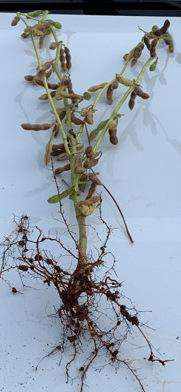soja: (85, 118, 112, 144), (44, 187, 75, 206), (19, 121, 54, 137), (49, 111, 70, 137), (77, 203, 105, 222), (22, 70, 57, 85), (42, 137, 56, 169), (66, 48, 82, 71), (151, 22, 172, 39), (133, 84, 152, 102), (84, 183, 101, 202), (106, 87, 123, 106), (81, 193, 104, 207), (128, 93, 145, 111), (89, 80, 108, 96), (168, 31, 179, 56), (58, 93, 83, 104), (114, 73, 135, 86), (148, 40, 163, 58), (37, 60, 56, 74), (58, 48, 69, 72), (24, 7, 47, 18), (50, 164, 72, 175), (46, 18, 66, 30), (109, 129, 122, 147), (67, 113, 83, 127), (29, 80, 57, 88), (9, 14, 22, 31), (86, 158, 104, 170), (39, 91, 57, 102), (49, 39, 63, 52), (151, 60, 163, 75), (131, 47, 141, 65), (68, 76, 76, 96), (57, 152, 74, 161), (17, 32, 32, 42), (73, 168, 88, 177), (82, 147, 97, 156), (36, 38, 49, 48), (112, 81, 122, 91)
